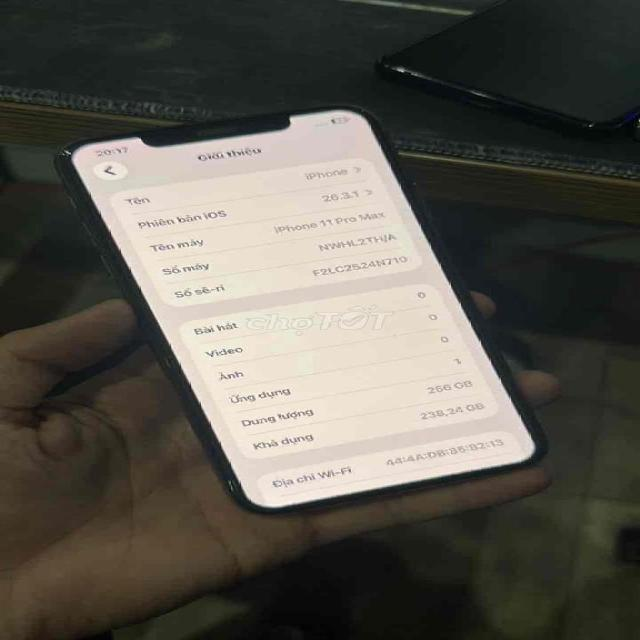gen_11: (58, 107, 543, 514)
